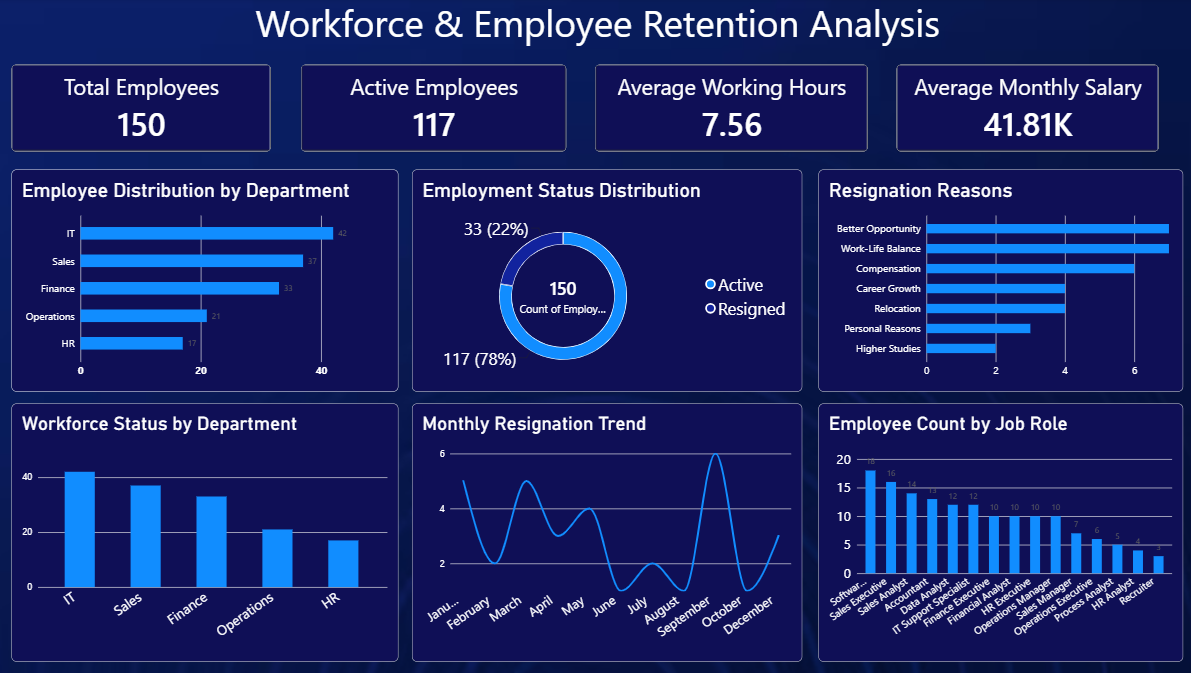

The page's visual inventory and layout, read from the dashboard file:
{"tool":"powerbi","page":{"name":"workforce & employee","canvas":[1920,1080],"ordinal":0},"visuals":[{"type":"cardVisual","fields":{"Data":["Attendance_cleaned.Total Employees"]},"box":[31,107.4,412.8,138.4],"z":0},{"type":"textbox","box":[0,0,1894.4,107.4],"z":1000},{"type":"textbox","box":[31,698,305,272],"z":2000},{"type":"cardVisual","fields":{"Data":["Attendance_cleaned.Average Monthly Salary"]},"box":[1438.7,107.4,417.5,138.4],"z":3000},{"type":"cardVisual","fields":{"Data":["Attendance_cleaned.Average Working Hours"]},"box":[959.1,107.4,434.2,138.4],"z":4000},{"type":"cardVisual","fields":{"Data":["Attendance_cleaned.Active Employees"]},"box":[491.5,107.4,422.3,138.4],"z":5000},{"type":"clusteredBarChart","title":" Employee Distribution by Department","fields":{"Category":["Employees_cleaned.Department"],"Y":["CountNonNull(Employees_cleaned.Employee_ID)"]},"box":[31,274.4,615.6,353.1],"z":6000},{"type":"donutChart","title":"Employment Status Distribution","fields":{"Category":["Employees_cleaned.Employment_Status"],"Y":["CountNonNull(Employees_cleaned.Employee_ID)"]},"box":[668.1,274.4,620.3,353.1],"z":7000},{"type":"barChart","title":"Resignation Reasons","fields":{"Category":["Employees_cleaned.Resignation_Reason"],"Y":["CountNonNull(Employees_cleaned.Employee_ID)"]},"box":[1314.6,274.4,579.8,353.1],"z":8000},{"type":"columnChart","title":" Workforce Status by Department","fields":{"Category":["Employees_cleaned.Department"],"Y":["CountNonNull(Employees_cleaned.Employee_ID)"]},"box":[31,646.6,615.6,410.4],"z":9000},{"type":"lineChart","title":" Monthly Resignation Trend","fields":{"Category":["Employees_cleaned.Resignation_Date.Variation.Date Hierarchy.Month"],"Y":["CountNonNull(Employees_cleaned.Employee_ID)"]},"box":[668.1,646.6,620.3,410.4],"z":10000},{"type":"clusteredColumnChart","title":" Employee Count by Job Role","fields":{"Category":["Employees_cleaned.Job_Role"],"Y":["CountNonNull(Employees_cleaned.Employee_ID)"]},"box":[1314.6,646.6,579.8,410.4],"z":11000}]}

Visuals, with their boxes in screenshot pixels (x1, y1, x2, y2), scaled from the page's 1920x1080 canvas onto the 1191x673 screenshot:
cardVisual - Attendance_cleaned.Total Employees: <bbox>19, 67, 275, 153</bbox>
textbox: <bbox>0, 0, 1175, 67</bbox>
textbox: <bbox>19, 435, 208, 604</bbox>
cardVisual - Attendance_cleaned.Average Monthly Salary: <bbox>892, 67, 1151, 153</bbox>
cardVisual - Attendance_cleaned.Average Working Hours: <bbox>595, 67, 864, 153</bbox>
cardVisual - Attendance_cleaned.Active Employees: <bbox>305, 67, 567, 153</bbox>
" Employee Distribution by Department" clusteredBarChart: <bbox>19, 171, 401, 391</bbox>
"Employment Status Distribution" donutChart: <bbox>414, 171, 799, 391</bbox>
"Resignation Reasons" barChart: <bbox>815, 171, 1175, 391</bbox>
" Workforce Status by Department" columnChart: <bbox>19, 403, 401, 659</bbox>
" Monthly Resignation Trend" lineChart: <bbox>414, 403, 799, 659</bbox>
" Employee Count by Job Role" clusteredColumnChart: <bbox>815, 403, 1175, 659</bbox>
